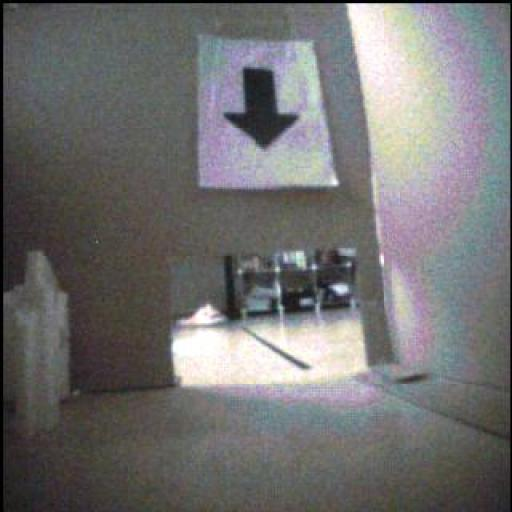arrow: (225, 70, 300, 150)
